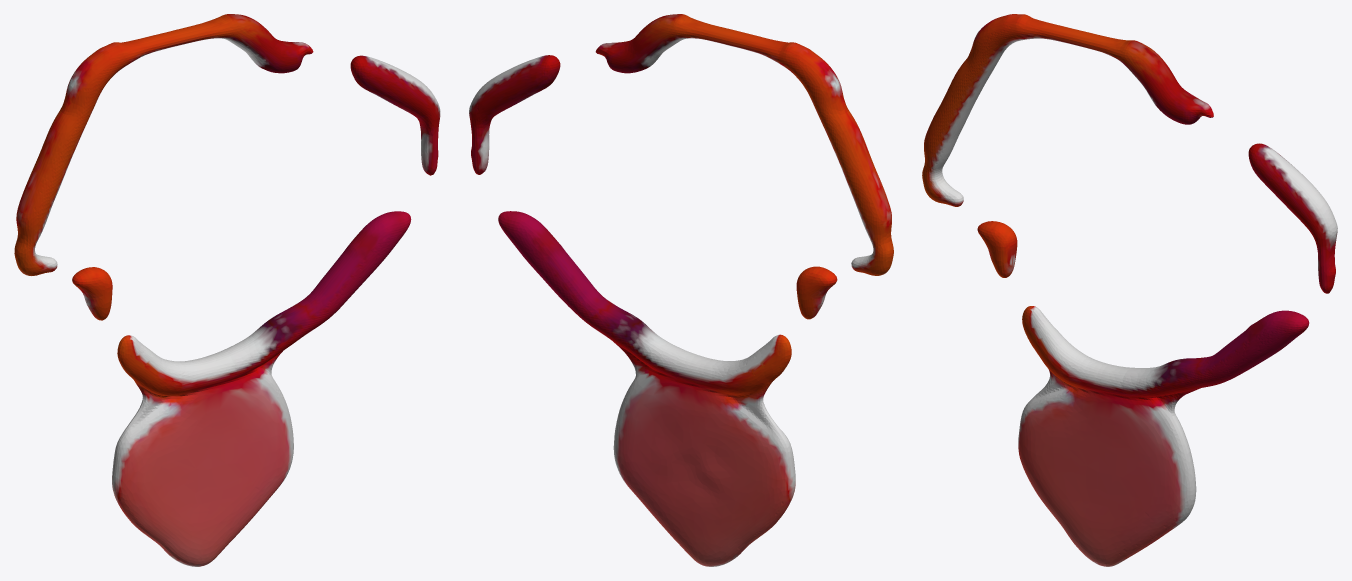
Rendered from talisman_pyromancy.glb.
3 views of the same model, side by side, from view 1: azimuth 30°, elevation 25°; view 2: azimuth 150°, elevation 25°; view 3: azimuth 330°, elevation 25° (orthographic). The views are drawn at different scales.
Visible parts, largest first — view 1: geometry_0; view 2: geometry_0; view 3: geometry_0.
Part boxes in pixels (x1,y1,x2,y2): geometry_0: (14,14,440,566); geometry_0: (469,14,893,566); geometry_0: (922,14,1337,566).
Bounding box in the file's own units: 0.5312 × 0.6539 × 0.0374.
